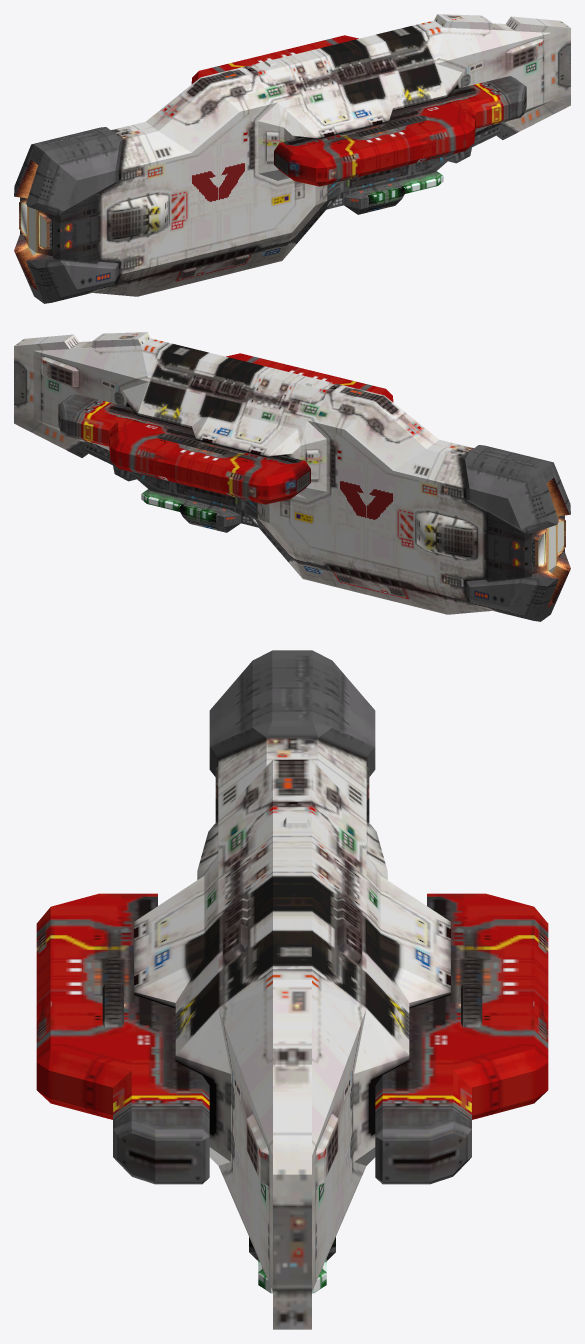
File: Eriax_Medium_Crusier.FBX
The picture shows the model from 3 angles, top to bottom: view 1: azimuth 30°, elevation 25°; view 2: azimuth 150°, elevation 25°; view 3: azimuth 270°, elevation 25°; orthographic projection. The views are drawn at different scales.
Visible parts, largest first — view 1: Laser Corvette; view 2: Laser Corvette; view 3: Laser Corvette.
Part boxes in pixels (x1,y1,x2,y2): Laser Corvette: (14, 14, 570, 303); Laser Corvette: (14, 332, 570, 621); Laser Corvette: (36, 650, 548, 1329).
Size of the model in its own units: 119 by 41.54 by 48.3.
9 materials, 9 textured.
